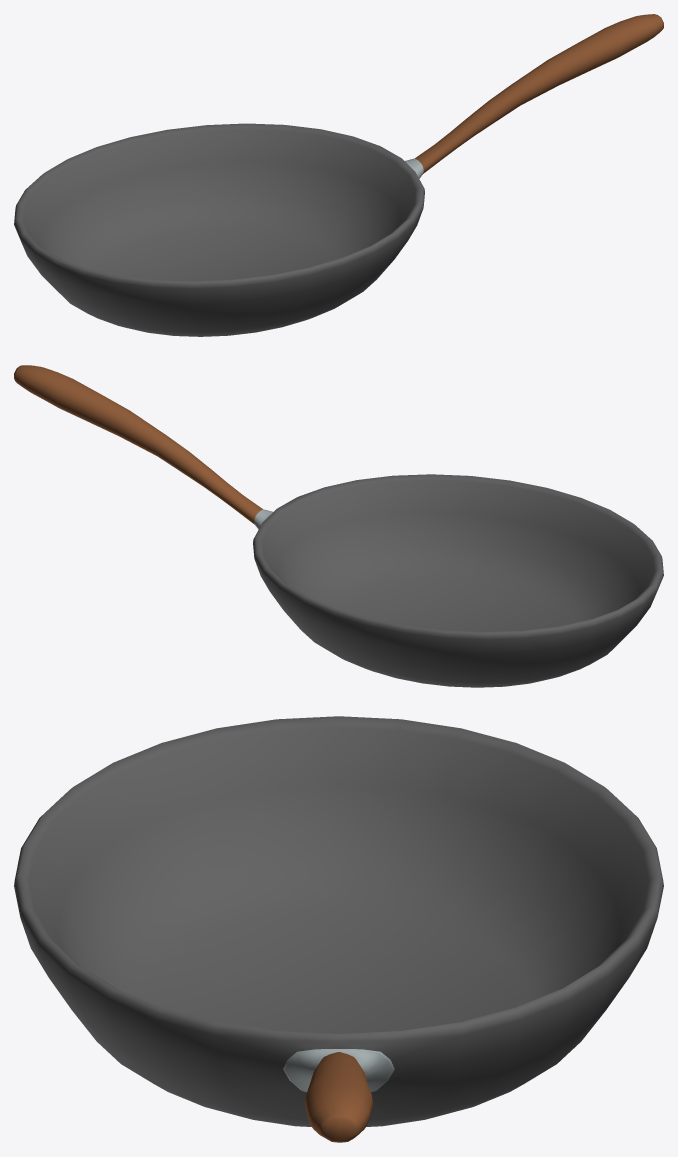
File: pan.dae
3 renders of one model, top to bottom at view 1: azimuth 30°, elevation 25°; view 2: azimuth 150°, elevation 25°; view 3: azimuth 270°, elevation 25°, orthographic. The views are drawn at different scales.
Visible parts, largest first — view 1: Cylinder; view 2: Cylinder; view 3: Cylinder.
Boxes of the visible parts, x1=… form: Cylinder: x1=14, y1=14, x2=663, y2=336; Cylinder: x1=14, y1=365, x2=663, y2=687; Cylinder: x1=14, y1=716, x2=663, y2=1142.
Bounding box in the file's own units: 0.2005 × 0.1008 × 0.0502.
